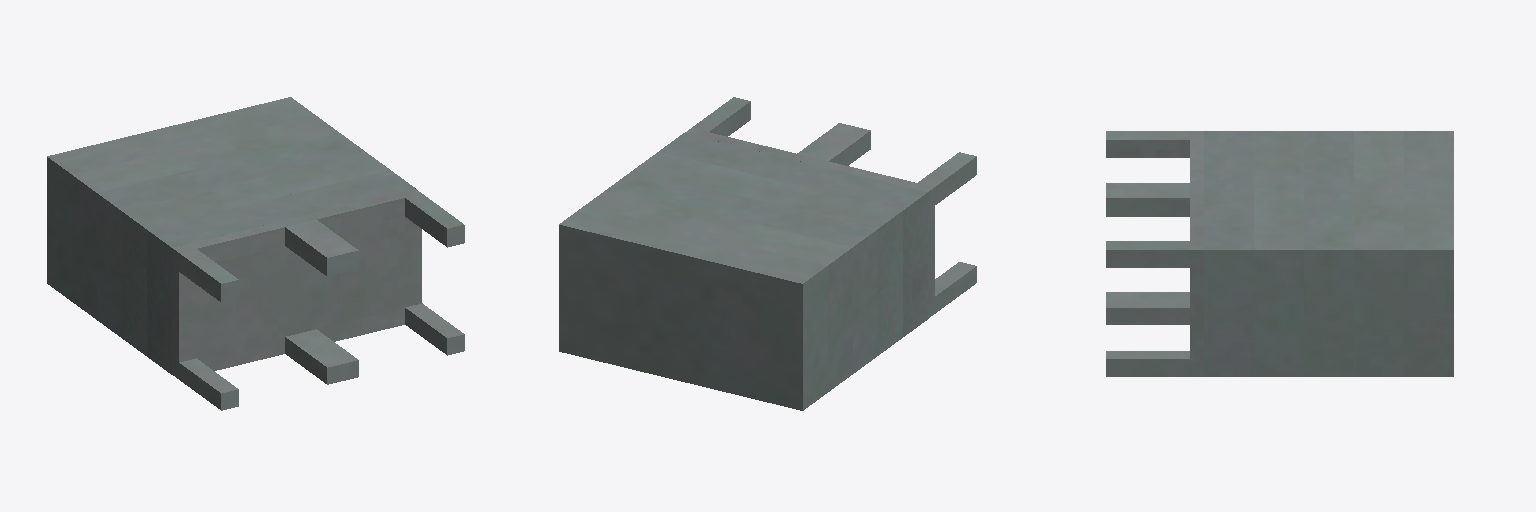
The picture shows the model from 3 angles: view 1: azimuth 30°, elevation 25°; view 2: azimuth 150°, elevation 25°; view 3: azimuth 270°, elevation 25°; orthographic projection.
Visible parts, largest first — view 1: CardCatologue.obj; view 2: CardCatologue.obj; view 3: CardCatologue.obj.
Part boxes in pixels (x1,y1,x2,y2): CardCatologue.obj: (47, 97, 464, 410); CardCatologue.obj: (559, 97, 976, 410); CardCatologue.obj: (1106, 131, 1453, 376).
Bounding box in the file's own units: 7.01 × 3.6 × 8.68.
Materials: 2 (1 with a texture image).